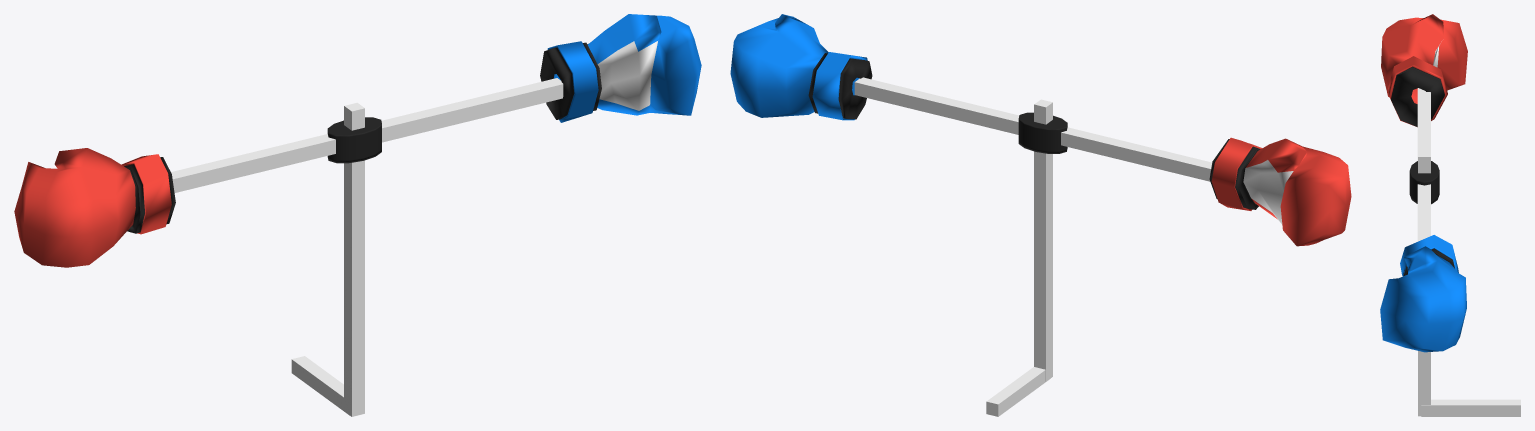
File: Glove_Rotation_Leftside.fbx
3 renders of one model, left to right at view 1: azimuth 30°, elevation 25°; view 2: azimuth 150°, elevation 25°; view 3: azimuth 270°, elevation 25°, orthographic. The views are drawn at different scales.
Visible parts, largest first — view 1: Punching_Glove_Red.004, Punching_Glove_Red.003, Rotation_Support, Extended_Hook, Ground_Hook; view 2: Punching_Glove_Red.003, Punching_Glove_Red.004, Rotation_Support, Extended_Hook, Ground_Hook; view 3: Punching_Glove_Red.003, Punching_Glove_Red.004, Rotation_Support, Ground_Hook, Extended_Hook.
Boxes of the visible parts, bbox=[...] form: Punching_Glove_Red.004: bbox=[14, 148, 175, 267]; Punching_Glove_Red.003: bbox=[540, 14, 701, 122]; Rotation_Support: bbox=[171, 78, 563, 192]; Extended_Hook: bbox=[344, 102, 364, 416]; Ground_Hook: bbox=[291, 356, 349, 415]; Punching_Glove_Red.003: bbox=[730, 14, 872, 120]; Punching_Glove_Red.004: bbox=[1209, 137, 1351, 246]; Rotation_Support: bbox=[854, 77, 1211, 181]; Extended_Hook: bbox=[1034, 99, 1052, 381]; Ground_Hook: bbox=[986, 367, 1049, 416]; Punching_Glove_Red.003: bbox=[1380, 235, 1466, 352]; Punching_Glove_Red.004: bbox=[1381, 14, 1467, 127]; Rotation_Support: bbox=[1409, 88, 1439, 241]; Ground_Hook: bbox=[1421, 399, 1520, 416]; Extended_Hook: bbox=[1418, 151, 1430, 416].
Bounding box in the file's own units: 436 × 205 × 92.73.
